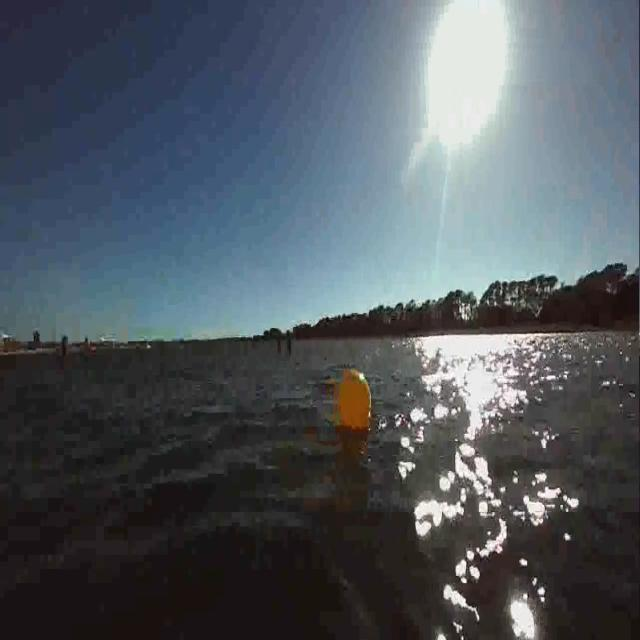yellow-buoy: (337, 367, 372, 435)
